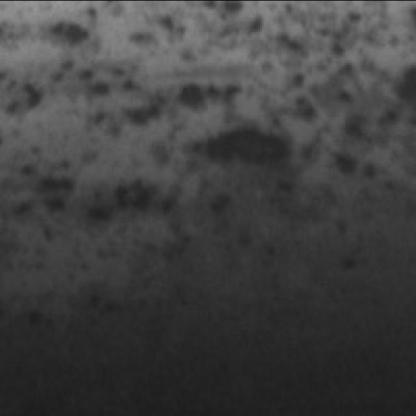pitted_surface: (6, 0, 409, 287)
